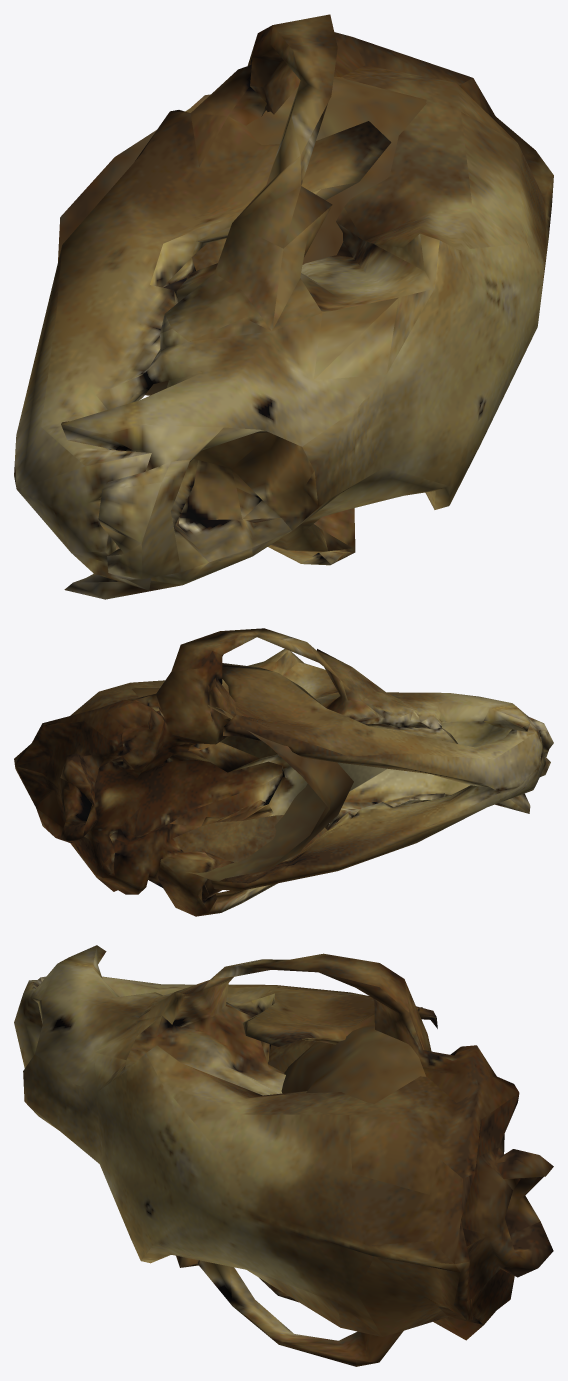
File: M_BearSkullMask.fbx
3 views of the same model, one above another, from view 1: azimuth 30°, elevation 25°; view 2: azimuth 150°, elevation 25°; view 3: azimuth 270°, elevation 25° (orthographic). The views are drawn at different scales.
Parts seen in each view (by area): view 1: 32_bear.001; view 2: 32_bear.001; view 3: 32_bear.001.
Boxes of the visible parts, left/top/right/bottom form: 32_bear.001: left=14, top=14, right=553, bottom=599; 32_bear.001: left=14, top=628, right=553, bottom=916; 32_bear.001: left=14, top=945, right=553, bottom=1366.
Bounding box in the file's own units: 0.2694 × 0.1789 × 0.2268.
